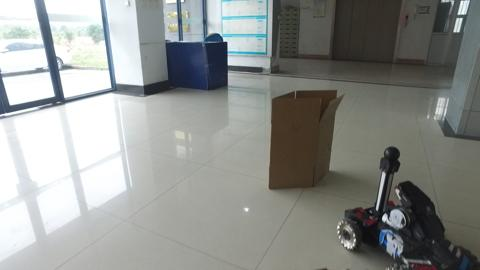box: (267, 83, 338, 195)
chariot: (336, 141, 478, 266)
